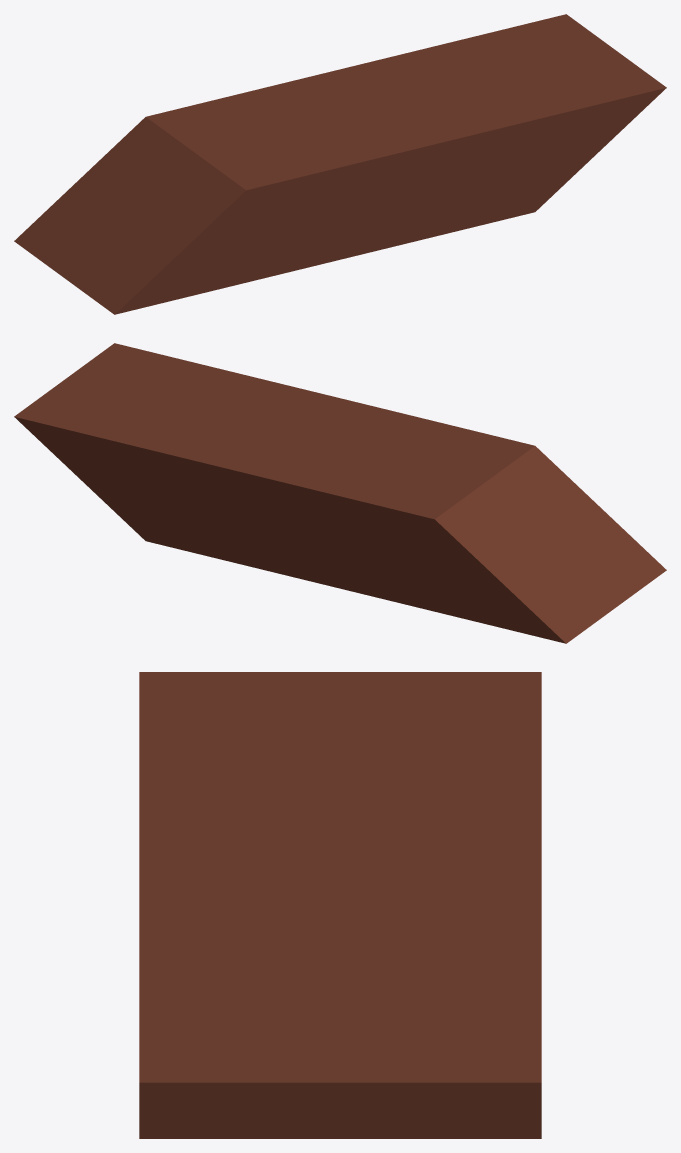
The model's file is Eraser.fbx.
The picture shows the model from 3 angles, top to bottom: view 1: azimuth 30°, elevation 25°; view 2: azimuth 150°, elevation 25°; view 3: azimuth 270°, elevation 25°; orthographic projection. The views are drawn at different scales.
Parts seen in each view (by area): view 1: Cube; view 2: Cube; view 3: Cube.
Part boxes in pixels (box(x1,y1,x2,y2)): Cube: box(14, 14, 666, 314); Cube: box(14, 343, 666, 643); Cube: box(139, 672, 541, 1138).
Bounding box in the file's own units: 118 × 18.81 × 37.12.
